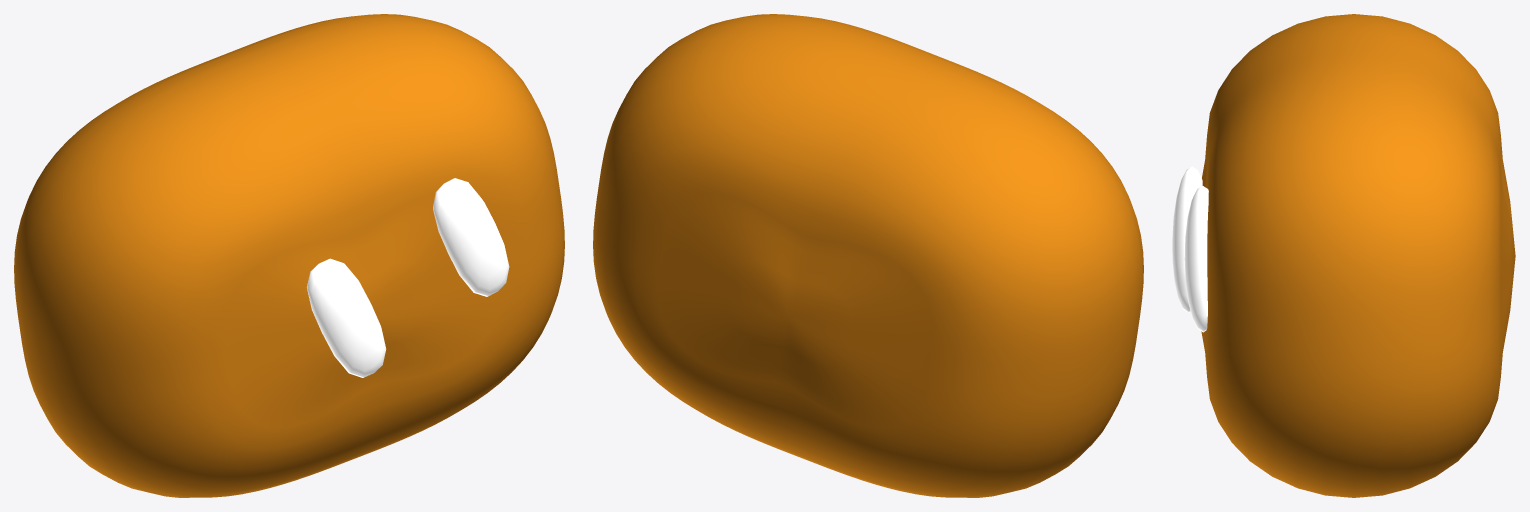
File: qt-scout.glb
3 renders of one model, left to right at view 1: azimuth 30°, elevation 25°; view 2: azimuth 150°, elevation 25°; view 3: azimuth 270°, elevation 25°, orthographic.
Visible parts, largest first — view 1: body, eye_L, eye_R; view 2: body; view 3: body, eye_R, eye_L.
Boxes of the visible parts, <box> form: body: <box>14,14,564,497</box>; eye_L: <box>307,258,386,377</box>; eye_R: <box>433,178,509,296</box>; body: <box>593,14,1143,497</box>; body: <box>1201,14,1515,497</box>; eye_R: <box>1184,185,1208,332</box>; eye_L: <box>1172,166,1202,312</box>.
Size of the model in its own units: 0.8 by 0.6039 by 0.4672.
